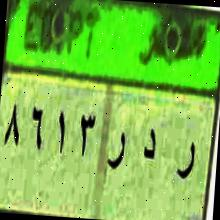1: (50, 104, 73, 166)
3: (73, 106, 100, 167)
6: (26, 92, 49, 160)
8: (1, 99, 26, 160)
daal: (136, 120, 162, 174)
raa: (171, 136, 199, 192), (102, 131, 130, 186)
